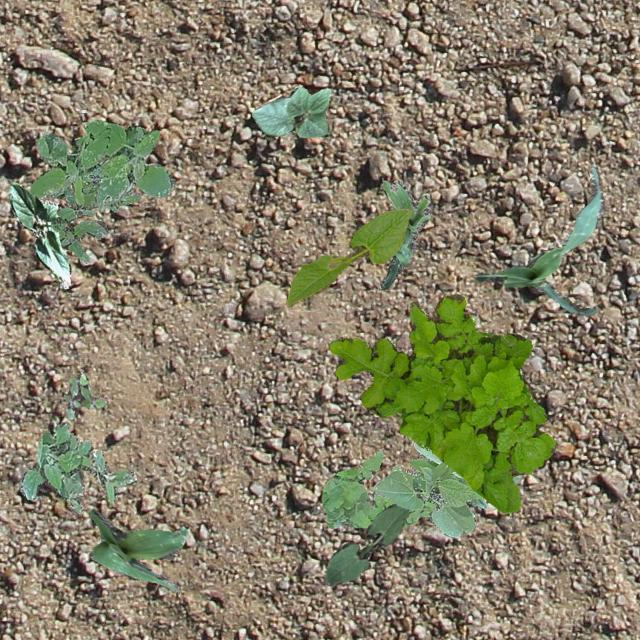crop: (472, 166, 604, 314), (370, 441, 520, 536), (284, 208, 410, 306), (88, 508, 186, 592), (324, 502, 408, 584), (8, 182, 70, 288), (380, 178, 430, 288), (250, 84, 330, 136)
weed: (328, 294, 554, 514), (28, 118, 174, 212), (18, 420, 136, 512), (320, 450, 436, 528), (50, 166, 140, 260), (62, 370, 106, 418)
